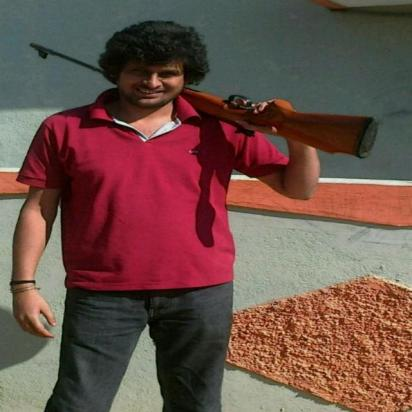Gun: (26, 40, 385, 162)
